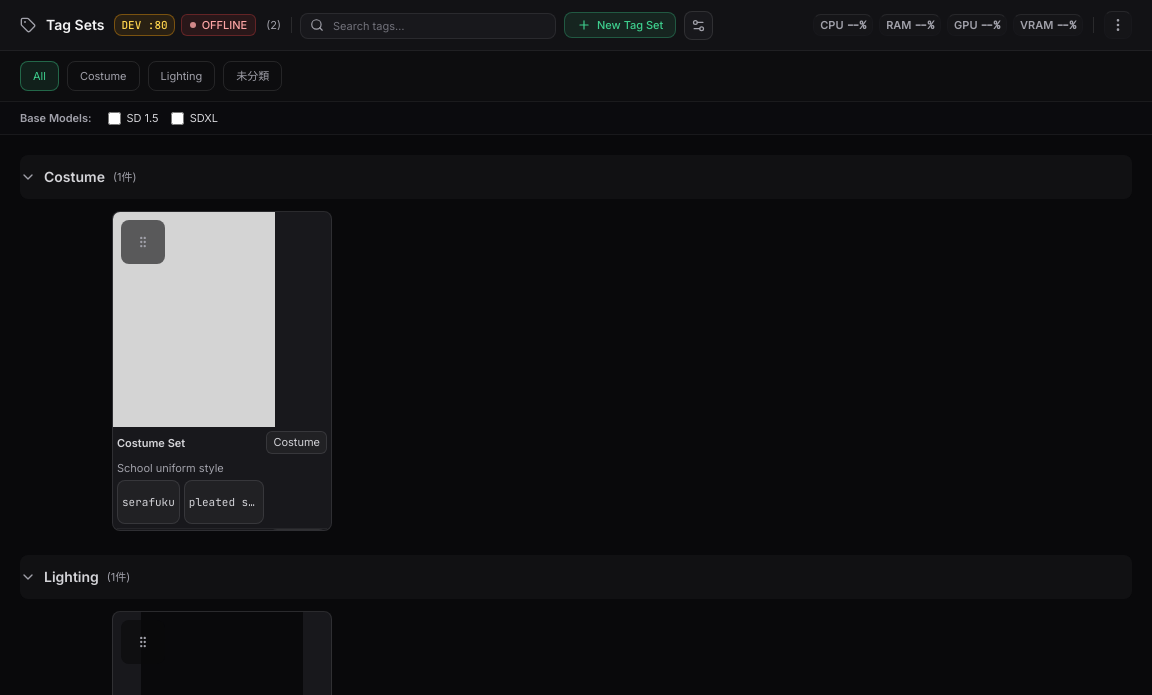
TagsPage Component › supports multi-select mode with Ctrl/Meta click, select all, and clear selection
The width and height of the screenshot is (1152, 695).
Note: Ctrl+Click enters multi-select mode
Click the element with id "tagset-card-1". click: (222, 371)
box: x1=112 y1=211 x2=332 y2=531
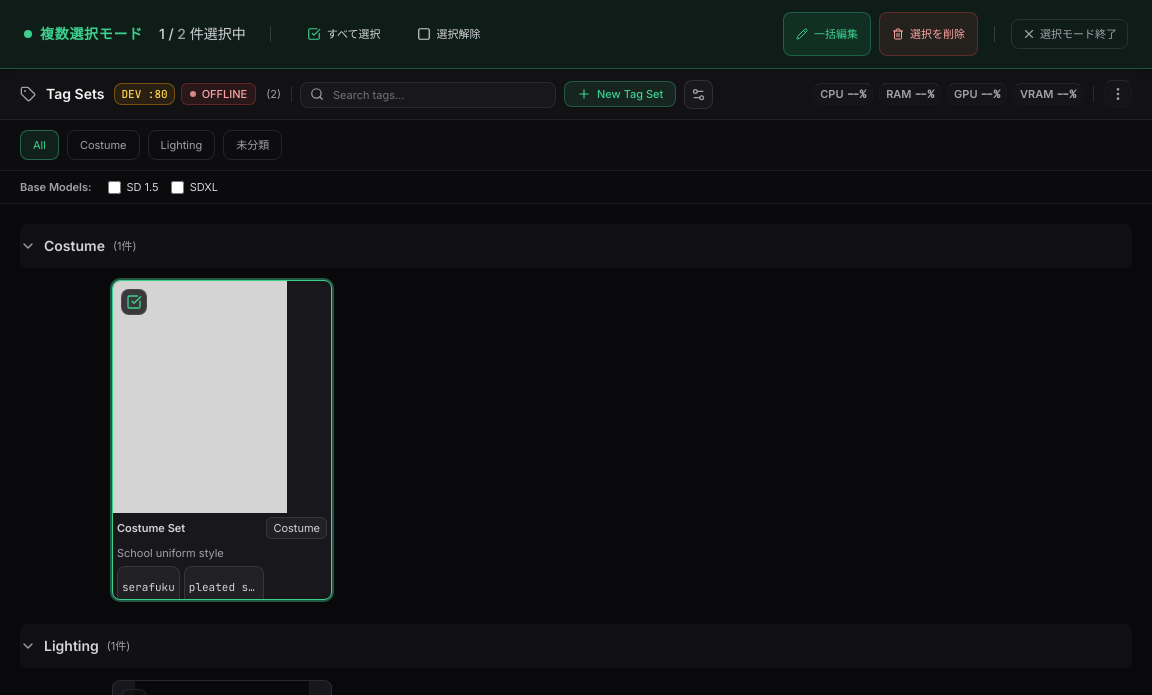
Result: the text "複数選択モード" is shown at x1=40 y1=24 x2=143 y2=44
Note: Click "すべて選択"
Click the button "すべて選択". click: (344, 34)
box: x1=295 y1=20 x2=392 y2=48
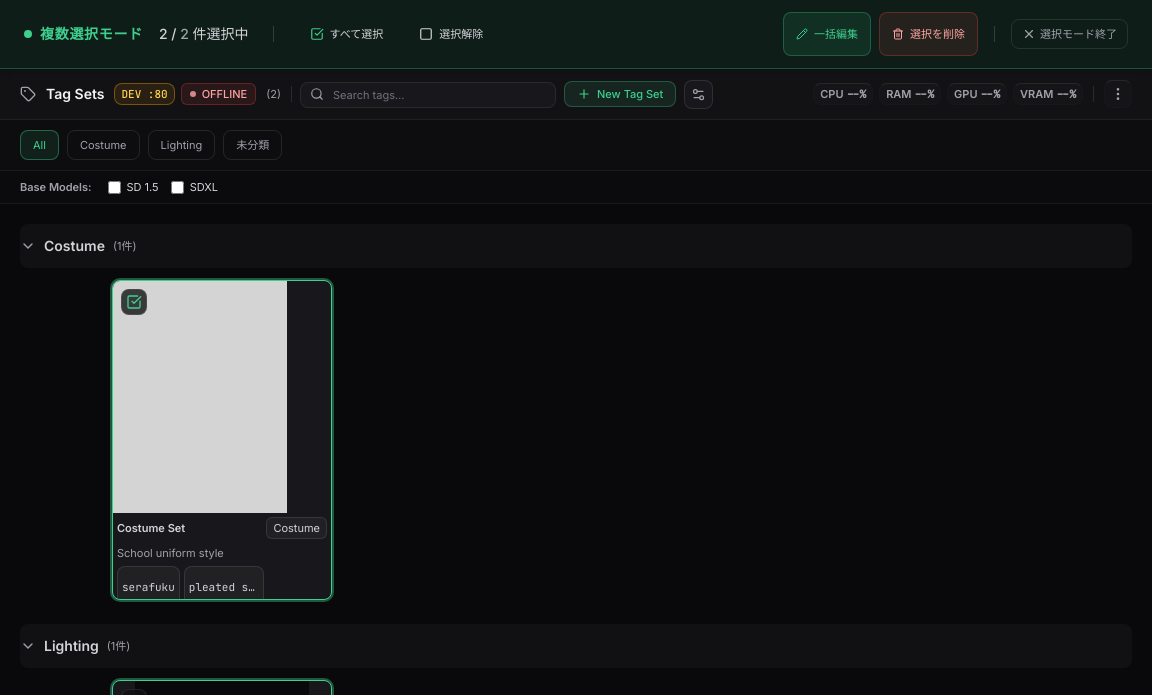
Note: Click "選択解除"
Click the button "選択解除". click: (451, 34)
box: x1=407 y1=20 x2=495 y2=48
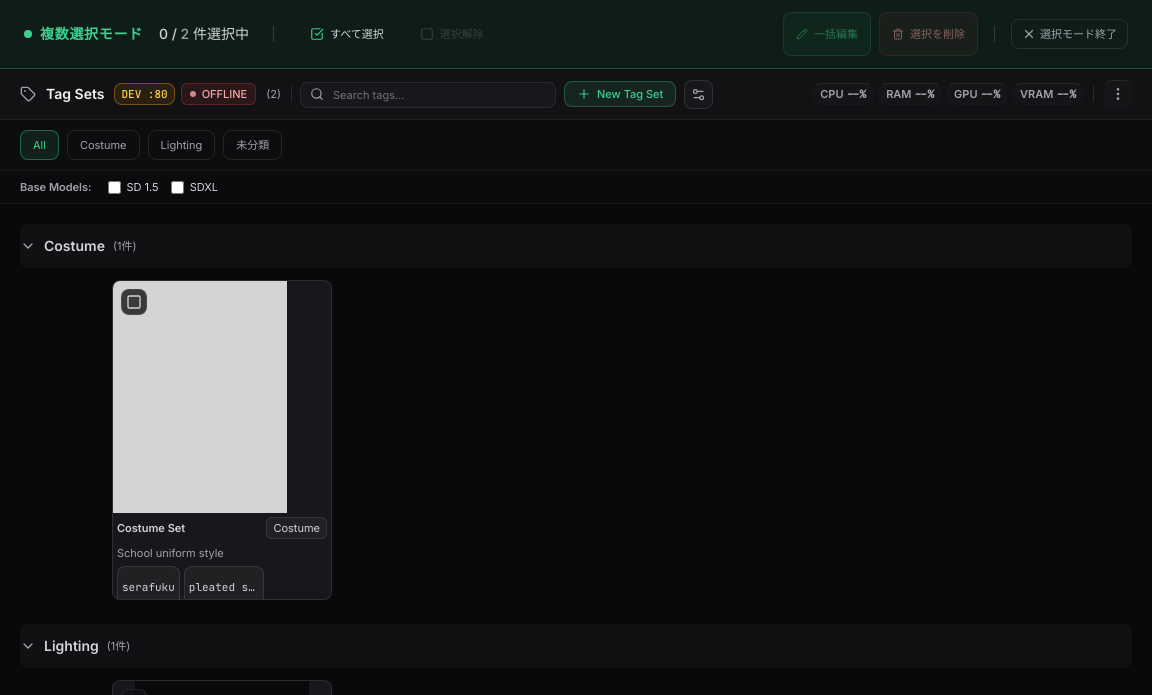
Note: Exit mode
Click the button titled "選択モード終了". click: (1070, 34)
box: x1=1011 y1=19 x2=1128 y2=49
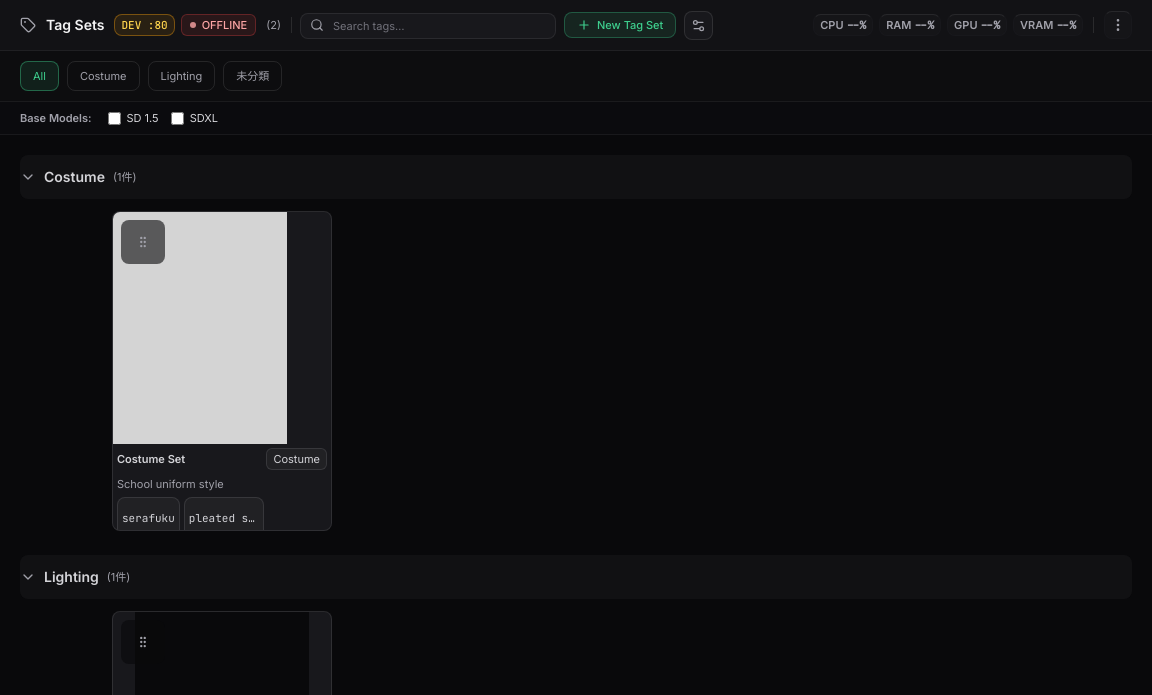
Result: the text "複数選択モード" is gone
